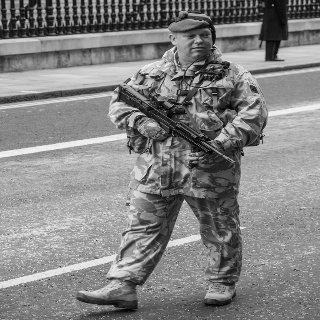rifle: (116, 82, 237, 167)
